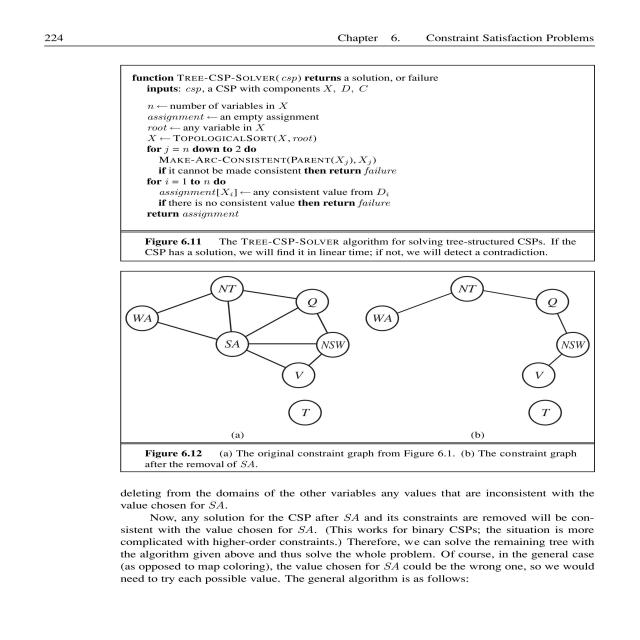diagram: (123, 272, 619, 472)
